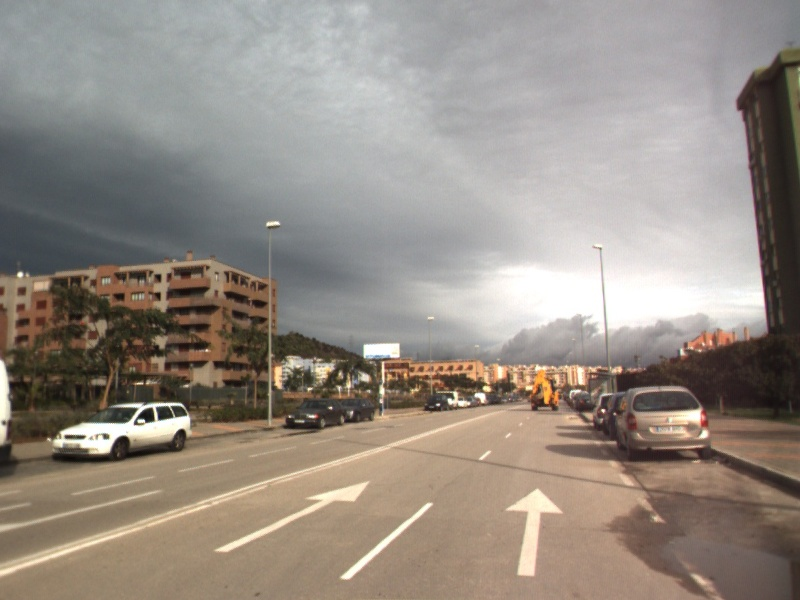STRAIGHT: (212, 479, 372, 554), (503, 486, 566, 578)
